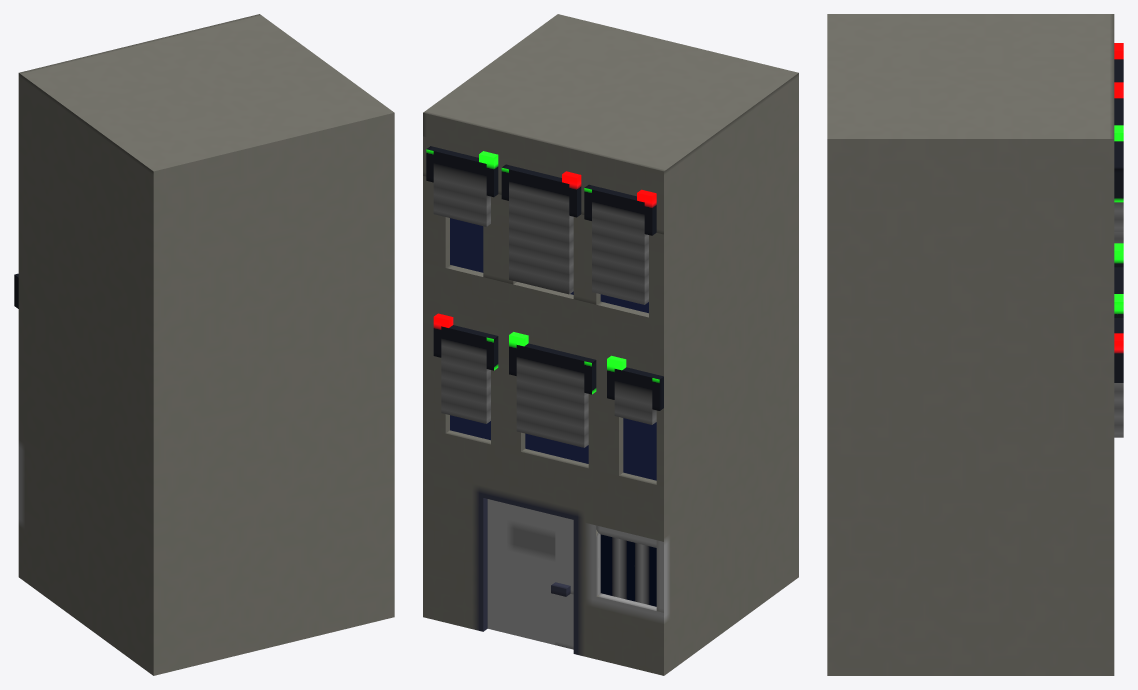
The model's file is budynek_00_dzw.dae.
3 views of the same model, side by side, from view 1: azimuth 30°, elevation 25°; view 2: azimuth 150°, elevation 25°; view 3: azimuth 270°, elevation 25° (orthographic). The views are drawn at different scales.
Parts seen in each view (by area): view 1: Content; view 2: Content; view 3: Content.
Boxes of the visible parts, bbox=[...] form: Content: bbox=[14, 14, 394, 675]; Content: bbox=[423, 14, 798, 675]; Content: bbox=[827, 14, 1123, 675].
Size of the model in its own units: 32 by 64 by 32.
Materials: 1 (1 with a texture image).
